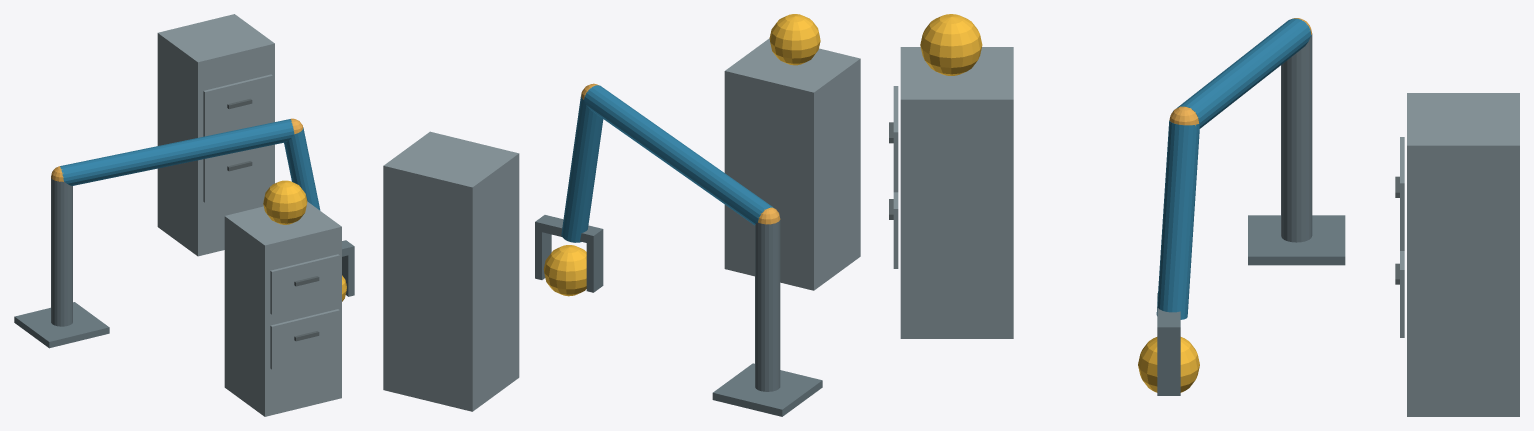
3 renders of one model, left to right at view 1: azimuth 30°, elevation 25°; view 2: azimuth 150°, elevation 25°; view 3: azimuth 270°, elevation 25°, orthographic. The views are drawn at different scales.
Visible parts, largest first — view 1: cabinet_1 body, cabinet_2 body, moving link 1, cabinet_2 drawer front.001, fixed post, cabinet_1 drawer front.001, cabinet_1 drawer front, cabinet_2 drawer front, pedestal, released ball_1, moving link 2, gripper finger 1; view 2: cabinet_2 body, cabinet_1 body, moving link 1, fixed post, moving link 2, pedestal, released ball_1, ball ball_2, gripper finger -1, gripper bridge, gripper finger 1; view 3: cabinet_2 body, cabinet_1 body, fixed post, moving link 2, moving link 1, pedestal, released ball_1, ball ball_2, gripper finger 1, gripper bridge, cabinet_1 drawer front.001, cabinet_2 drawer front.001.
Boxes of the visible parts, x1=… form: cabinet_1 body: x1=224, y1=201, x2=341, y2=416; cabinet_2 body: x1=157, y1=14, x2=274, y2=256; moving link 1: x1=60, y1=119, x2=294, y2=185; cabinet_2 drawer front.001: x1=203, y1=74, x2=272, y2=136; fixed post: x1=51, y1=178, x2=72, y2=326; cabinet_1 drawer front.001: x1=270, y1=254, x2=339, y2=314; cabinet_1 drawer front: x1=270, y1=309, x2=339, y2=369; cabinet_2 drawer front: x1=203, y1=145, x2=272, y2=202; pedestal: x1=14, y1=302, x2=109, y2=348; released ball_1: x1=263, y1=180, x2=307, y2=224; moving link 2: x1=284, y1=128, x2=320, y2=210; gripper finger 1: x1=342, y1=254, x2=354, y2=296; cabinet_2 body: x1=383, y1=131, x2=519, y2=411; cabinet_1 body: x1=724, y1=38, x2=860, y2=290; moving link 1: x1=584, y1=85, x2=774, y2=225; fixed post: x1=755, y1=220, x2=780, y2=391; moving link 2: x1=561, y1=95, x2=603, y2=242; pedestal: x1=712, y1=363, x2=822, y2=416; released ball_1: x1=769, y1=14, x2=820, y2=65; ball ball_2: x1=543, y1=245, x2=586, y2=296; gripper finger -1: x1=586, y1=238, x2=603, y2=292; gripper bridge: x1=535, y1=215, x2=603, y2=244; gripper finger 1: x1=535, y1=230, x2=551, y2=279; cabinet_2 body: x1=1407, y1=93, x2=1519, y2=416; cabinet_1 body: x1=900, y1=47, x2=1013, y2=338; fixed post: x1=1281, y1=33, x2=1312, y2=242; moving link 2: x1=1156, y1=121, x2=1199, y2=319; moving link 1: x1=1173, y1=18, x2=1311, y2=128; pedestal: x1=1248, y1=215, x2=1345, y2=265; released ball_1: x1=920, y1=14, x2=982, y2=75; ball ball_2: x1=1138, y1=337, x2=1199, y2=392; gripper finger 1: x1=1157, y1=338, x2=1180, y2=395; gripper bridge: x1=1157, y1=293, x2=1180, y2=337; cabinet_1 drawer front.001: x1=893, y1=86, x2=898, y2=192; cabinet_2 drawer front.001: x1=1400, y1=137, x2=1404, y2=250.
Size of the model in its own units: 1.17 by 0.84 by 1.62.
